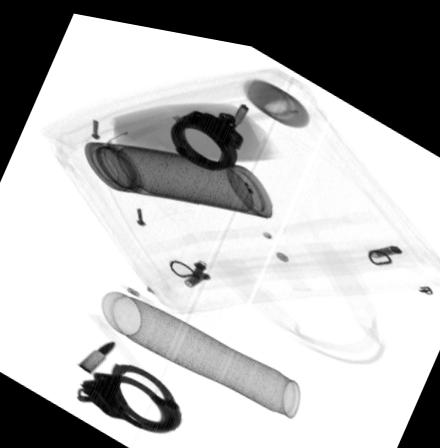Bullet: (78, 338, 116, 369)
HandCuffs: (78, 356, 184, 426)
